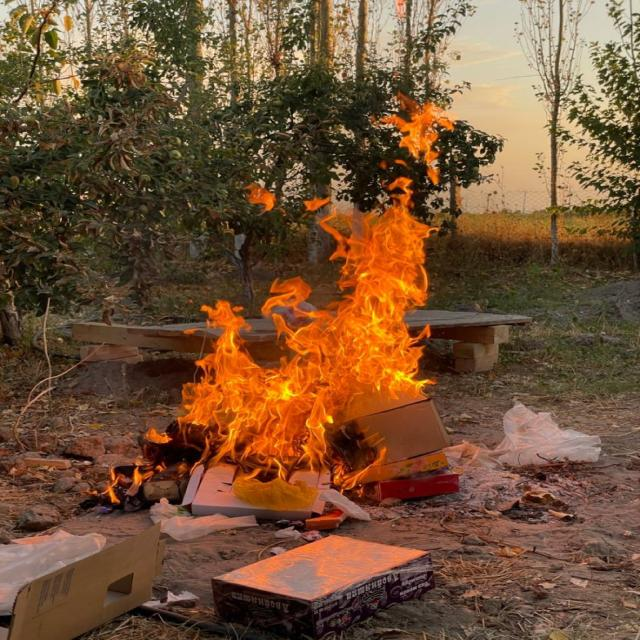fire: (160, 110, 446, 493)
